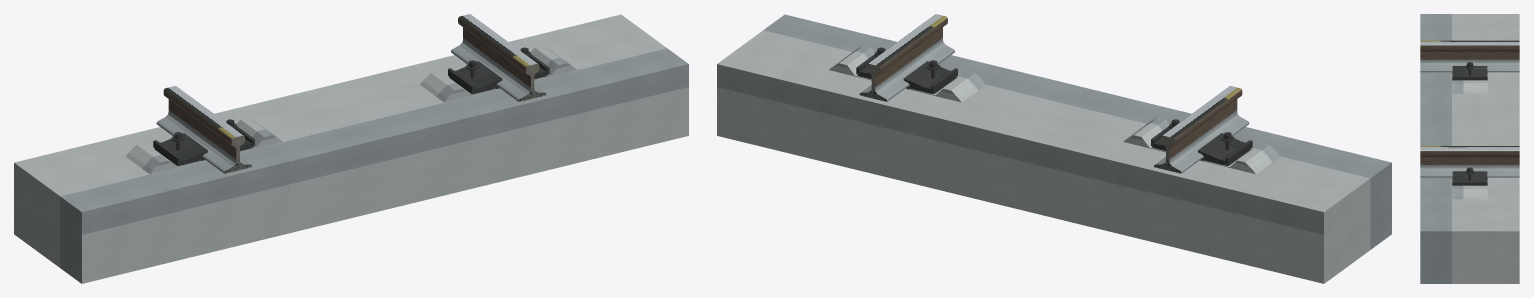
The model's file is slab_mid.obj.
The picture shows the model from 3 angles, left to right: view 1: azimuth 30°, elevation 25°; view 2: azimuth 150°, elevation 25°; view 3: azimuth 270°, elevation 25°; orthographic projection. The views are drawn at different scales.
Parts seen in each view (by area): view 1: slab_bed, rail_left, rail_right, sleeper, fastener_right, fastener_left; view 2: slab_bed, rail_left, rail_right, sleeper, fastener_right, fastener_left; view 3: slab_bed, rail_left, rail_right, sleeper, fastener_left, fastener_right.
Boxes of the visible parts, left/top/right/bottom form: slab_bed: left=14, top=14, right=688, bottom=283; rail_left: left=156, top=86, right=250, bottom=173; rail_right: left=451, top=14, right=544, bottom=101; sleeper: left=126, top=45, right=576, bottom=174; fastener_right: left=448, top=47, right=549, bottom=94; fastener_left: left=153, top=119, right=254, bottom=166; slab_bed: left=717, top=14, right=1391, bottom=283; rail_left: left=1155, top=86, right=1249, bottom=173; rail_right: left=861, top=14, right=954, bottom=101; sleeper: left=829, top=45, right=1279, bottom=174; fastener_right: left=856, top=47, right=957, bottom=94; fastener_left: left=1151, top=119, right=1252, bottom=166; slab_bed: left=1420, top=14, right=1519, bottom=283; rail_left: left=1420, top=40, right=1519, bottom=72; rail_right: left=1420, top=146, right=1519, bottom=177; sleeper: left=1452, top=74, right=1487, bottom=199; fastener_left: left=1452, top=62, right=1487, bottom=80; fastener_right: left=1452, top=167, right=1487, bottom=185.
Size of the model in its own units: 3.1 by 0.5324 by 0.6.
